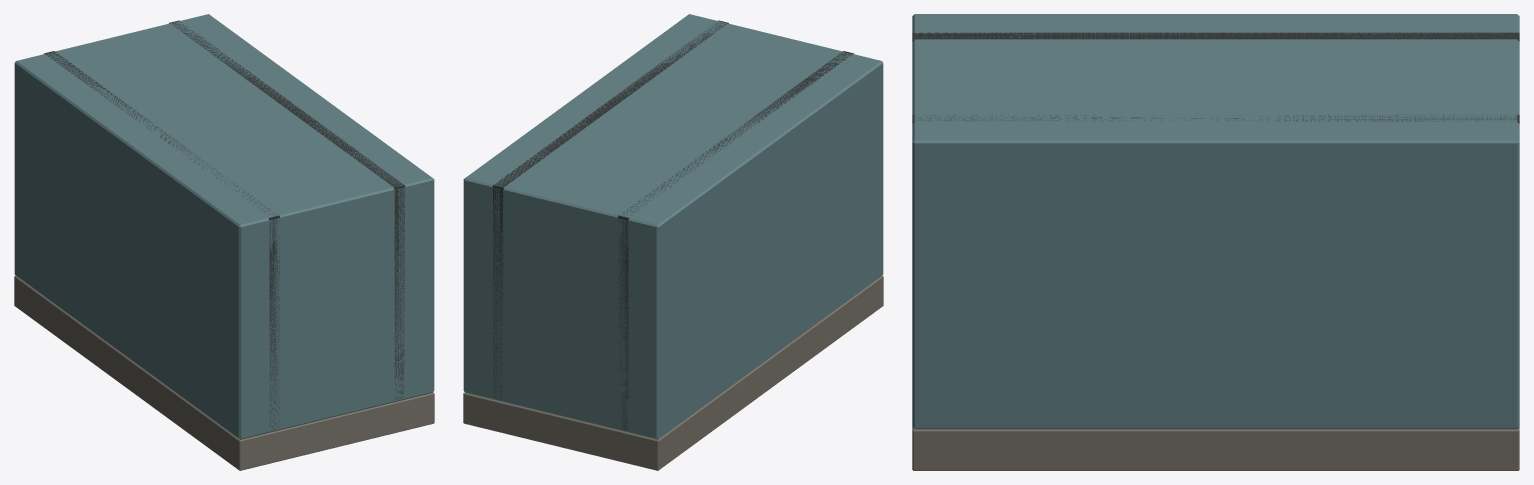
Rendered from pallet_load_1m.glb.
3 renders of one model, left to right at view 1: azimuth 30°, elevation 25°; view 2: azimuth 150°, elevation 25°; view 3: azimuth 270°, elevation 25°, orthographic. The views are drawn at different scales.
Parts seen in each view (by area): view 1: pallet_load_1m; view 2: pallet_load_1m; view 3: pallet_load_1m.
Boxes of the visible parts, x1,y1,x2,y2 form: pallet_load_1m: (14, 14, 434, 470); pallet_load_1m: (463, 14, 883, 470); pallet_load_1m: (912, 14, 1519, 470).
Size of the model in its own units: 1 by 1.2 by 2.
